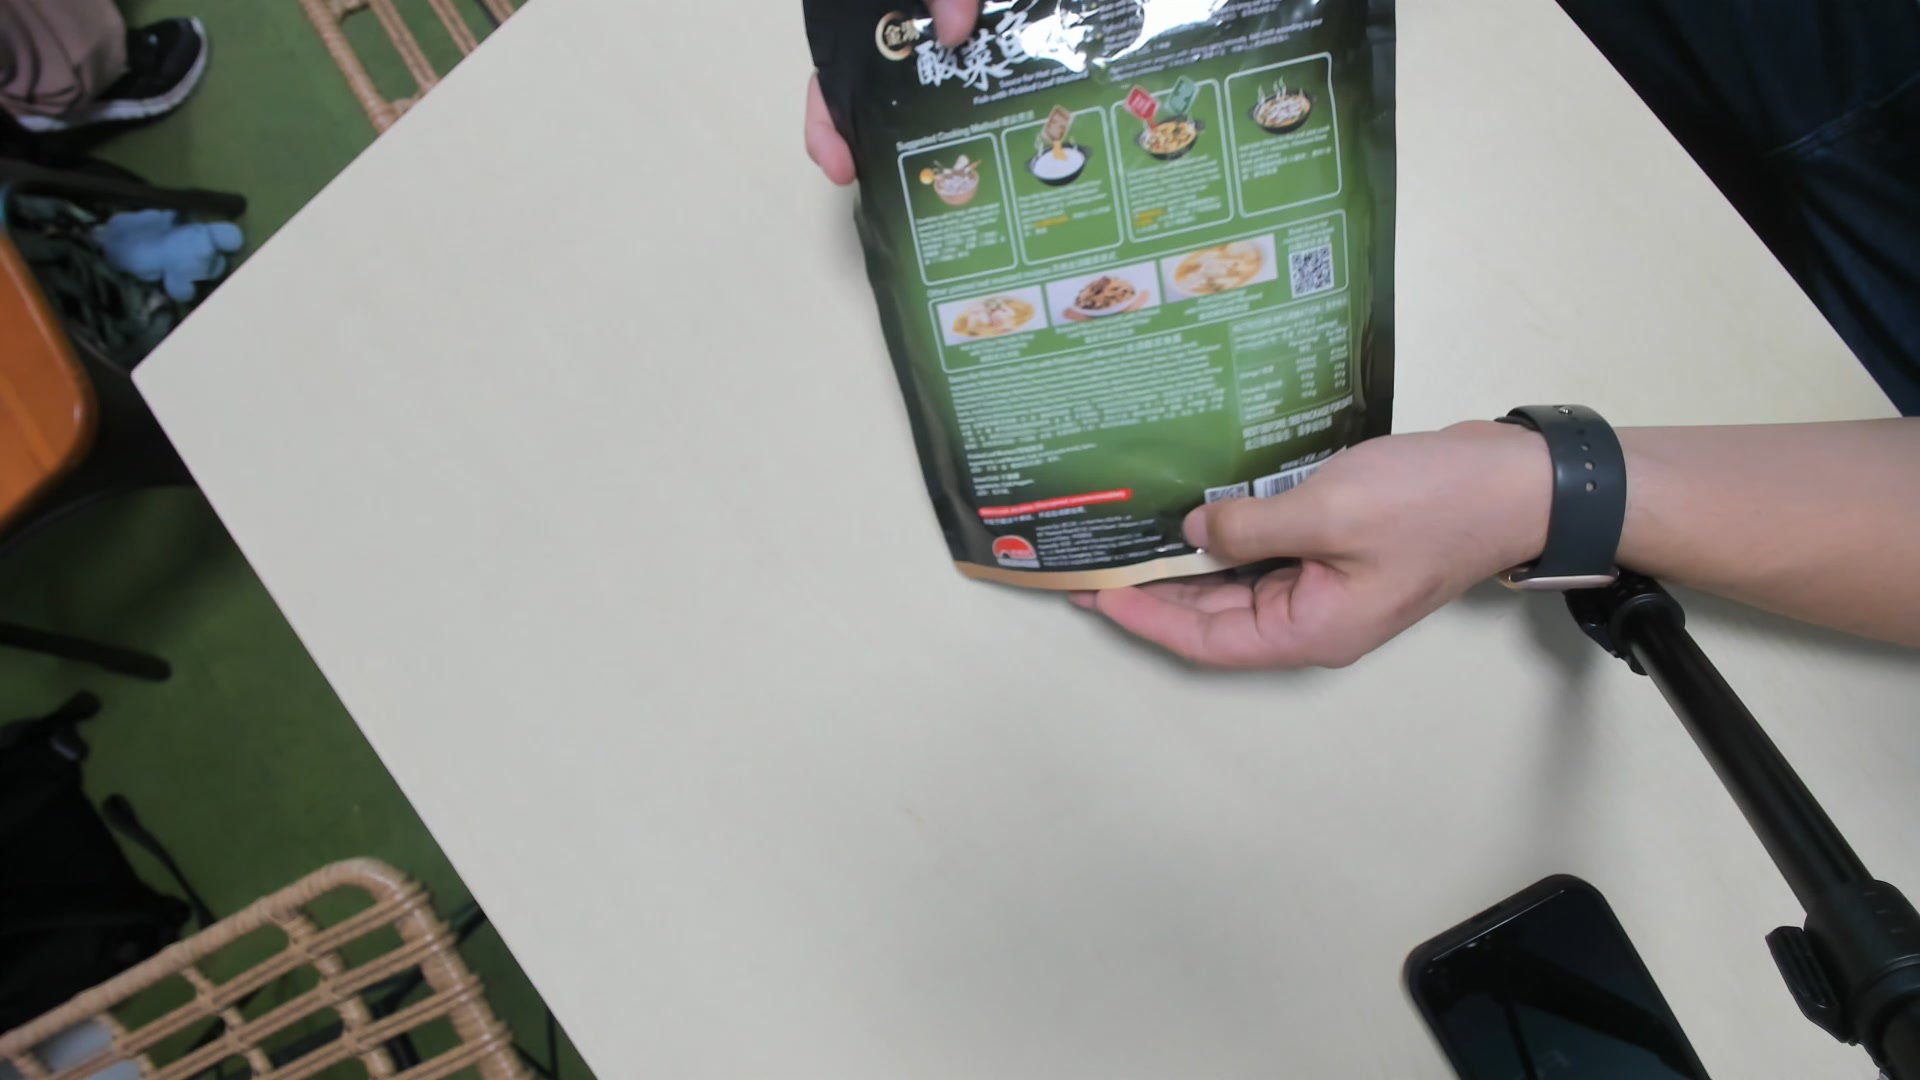OtherSauceDressing_200-299g_NonHalal_NonHealthy: (831, 1, 1406, 593)
